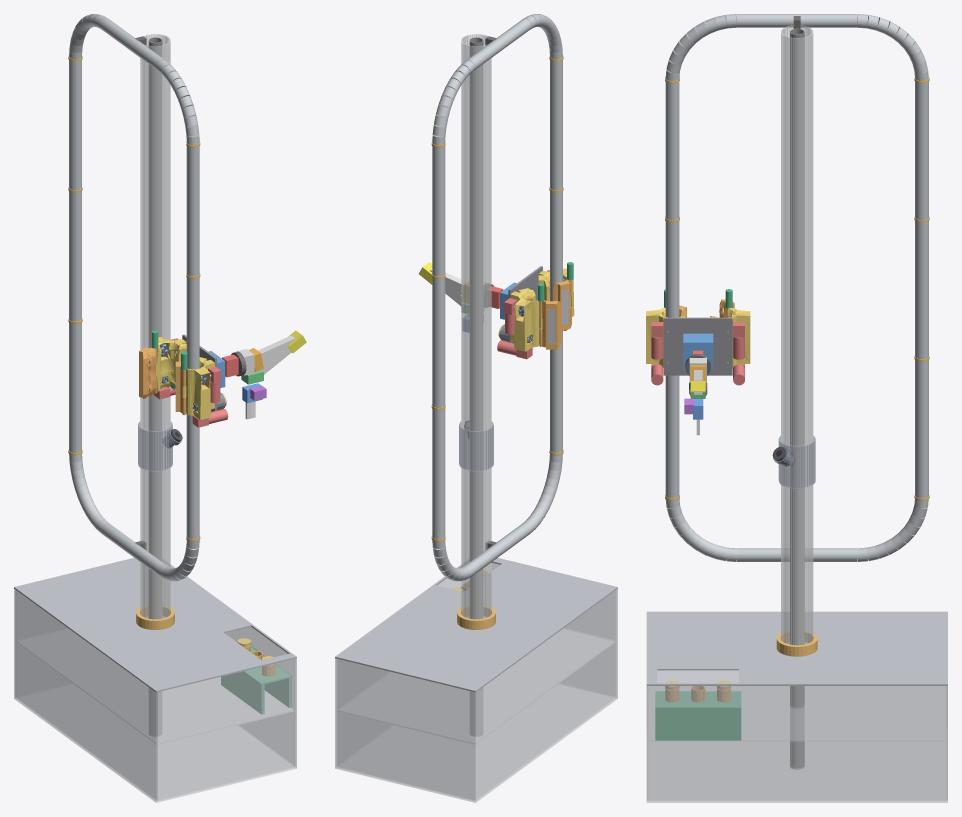
The model's file is transplant-seedling-step2-drive-v9.glb.
The picture shows the model from 3 angles, left to right: view 1: azimuth 30°, elevation 25°; view 2: azimuth 150°, elevation 25°; view 3: azimuth 270°, elevation 25°; orthographic projection. The views are drawn at different scales.
Bounding box in the file's own units: 0.4877 × 1.9 × 0.701.
